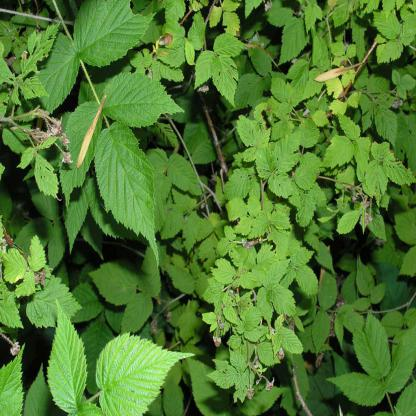raspberry leaf: (93, 121, 164, 271), (95, 327, 197, 415), (45, 99, 103, 206), (22, 24, 75, 121), (83, 1, 157, 68), (47, 299, 89, 415), (100, 73, 185, 128)
